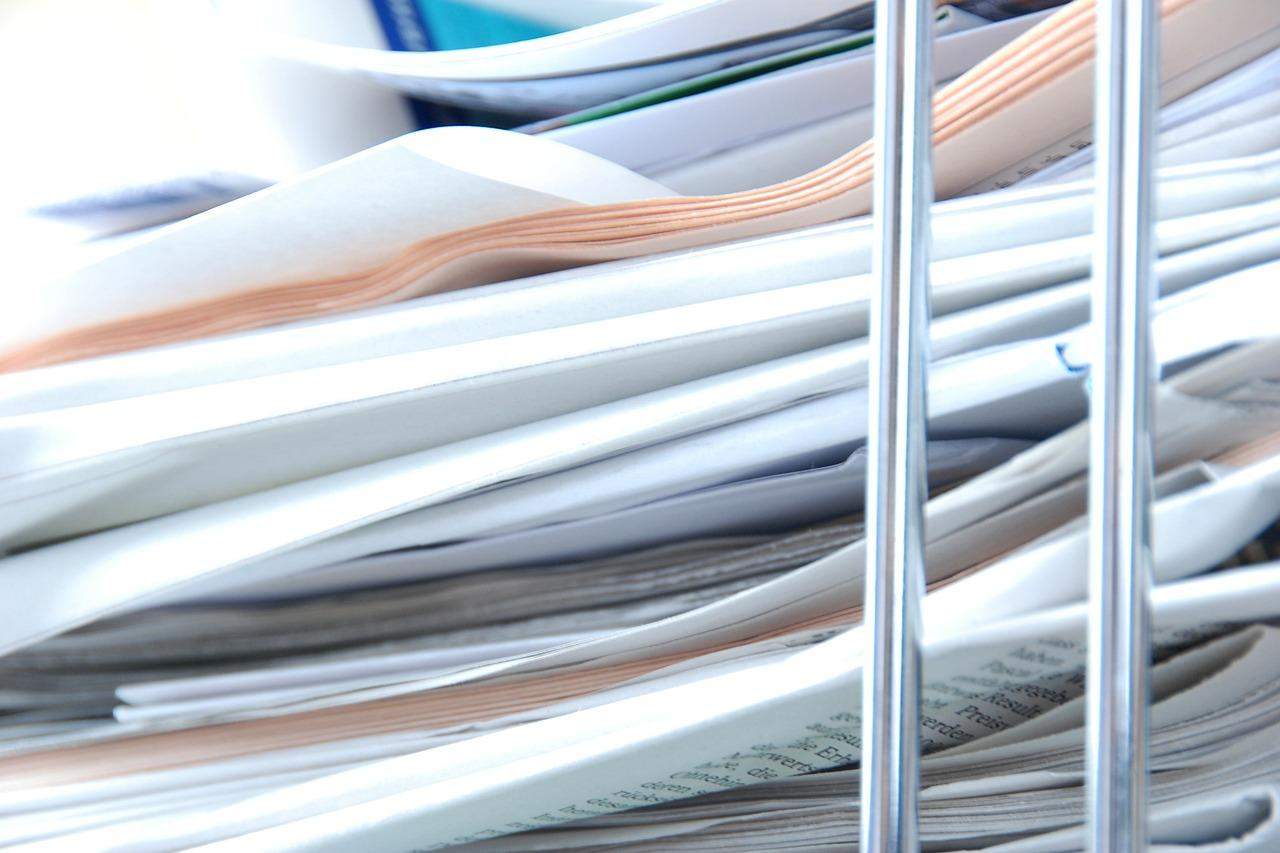Paper: (0, 145, 1279, 665), (22, 456, 1280, 853)
